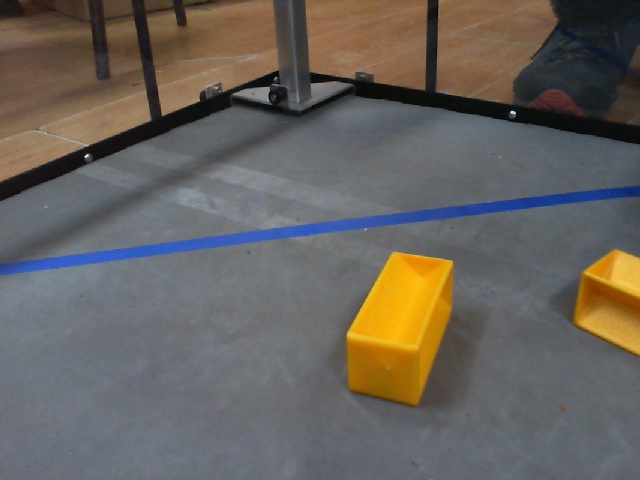YellowSample: (342, 249, 457, 409), (569, 243, 640, 360)
